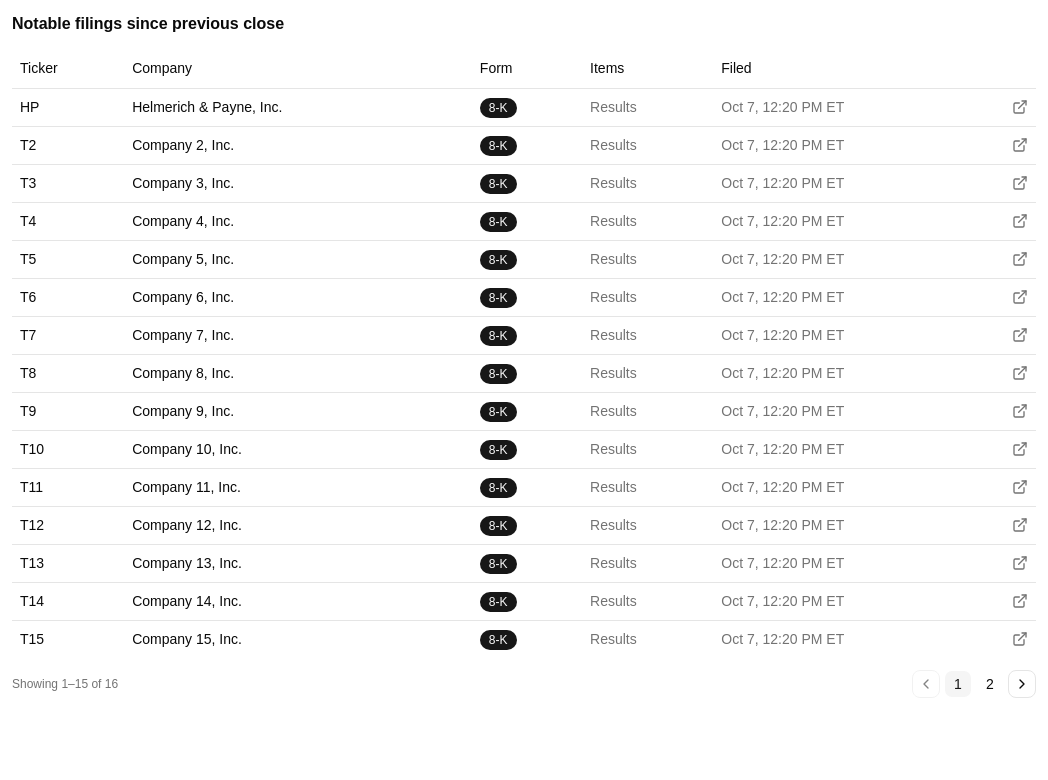
Test: shows company, items in words and New York time, 15 per page
This screenshot has width=1048, height=780.
Check: the text "Helmerich & Payne, Inc." is shown, box [124, 88, 472, 126]
Check: the text "Showing 1–15 of 16" is shown, box [12, 676, 118, 692]
Click the button named "Next page" at point(1022, 684), box [1008, 670, 1036, 698]
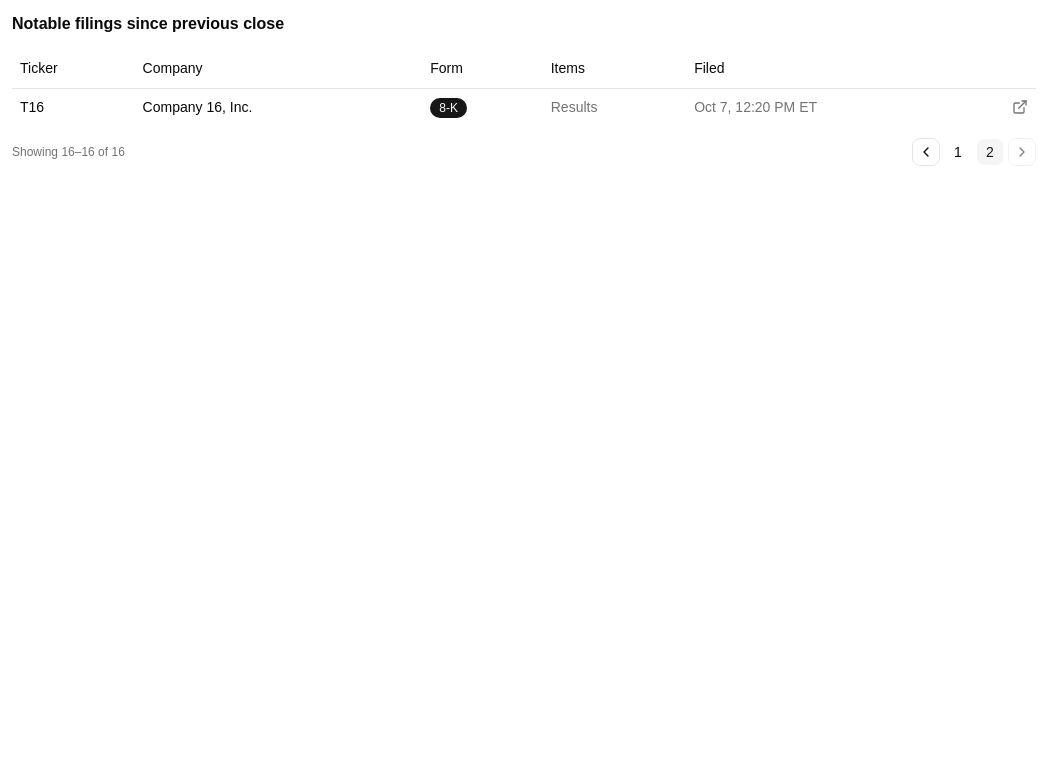
Check: the link "T16" is shown, box [20, 99, 44, 115]
